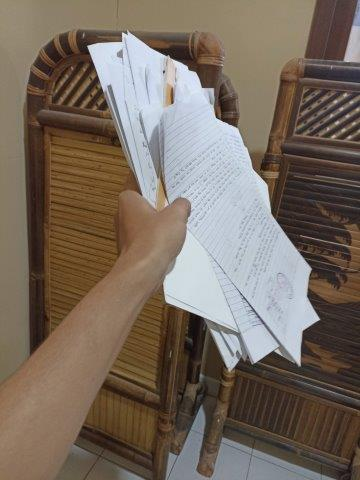kertas: (87, 29, 320, 369)
